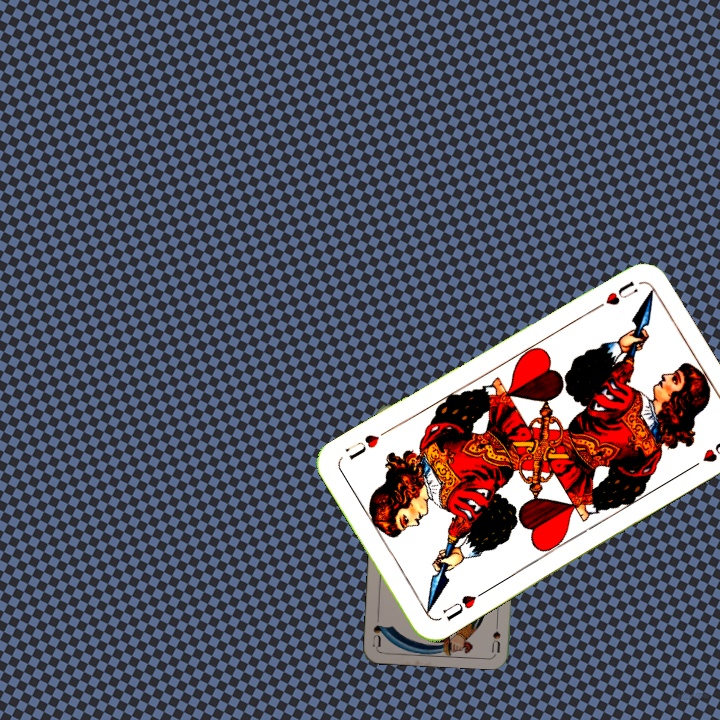HU: (587, 276, 641, 314), (438, 586, 488, 624)
SU: (488, 613, 503, 653)
